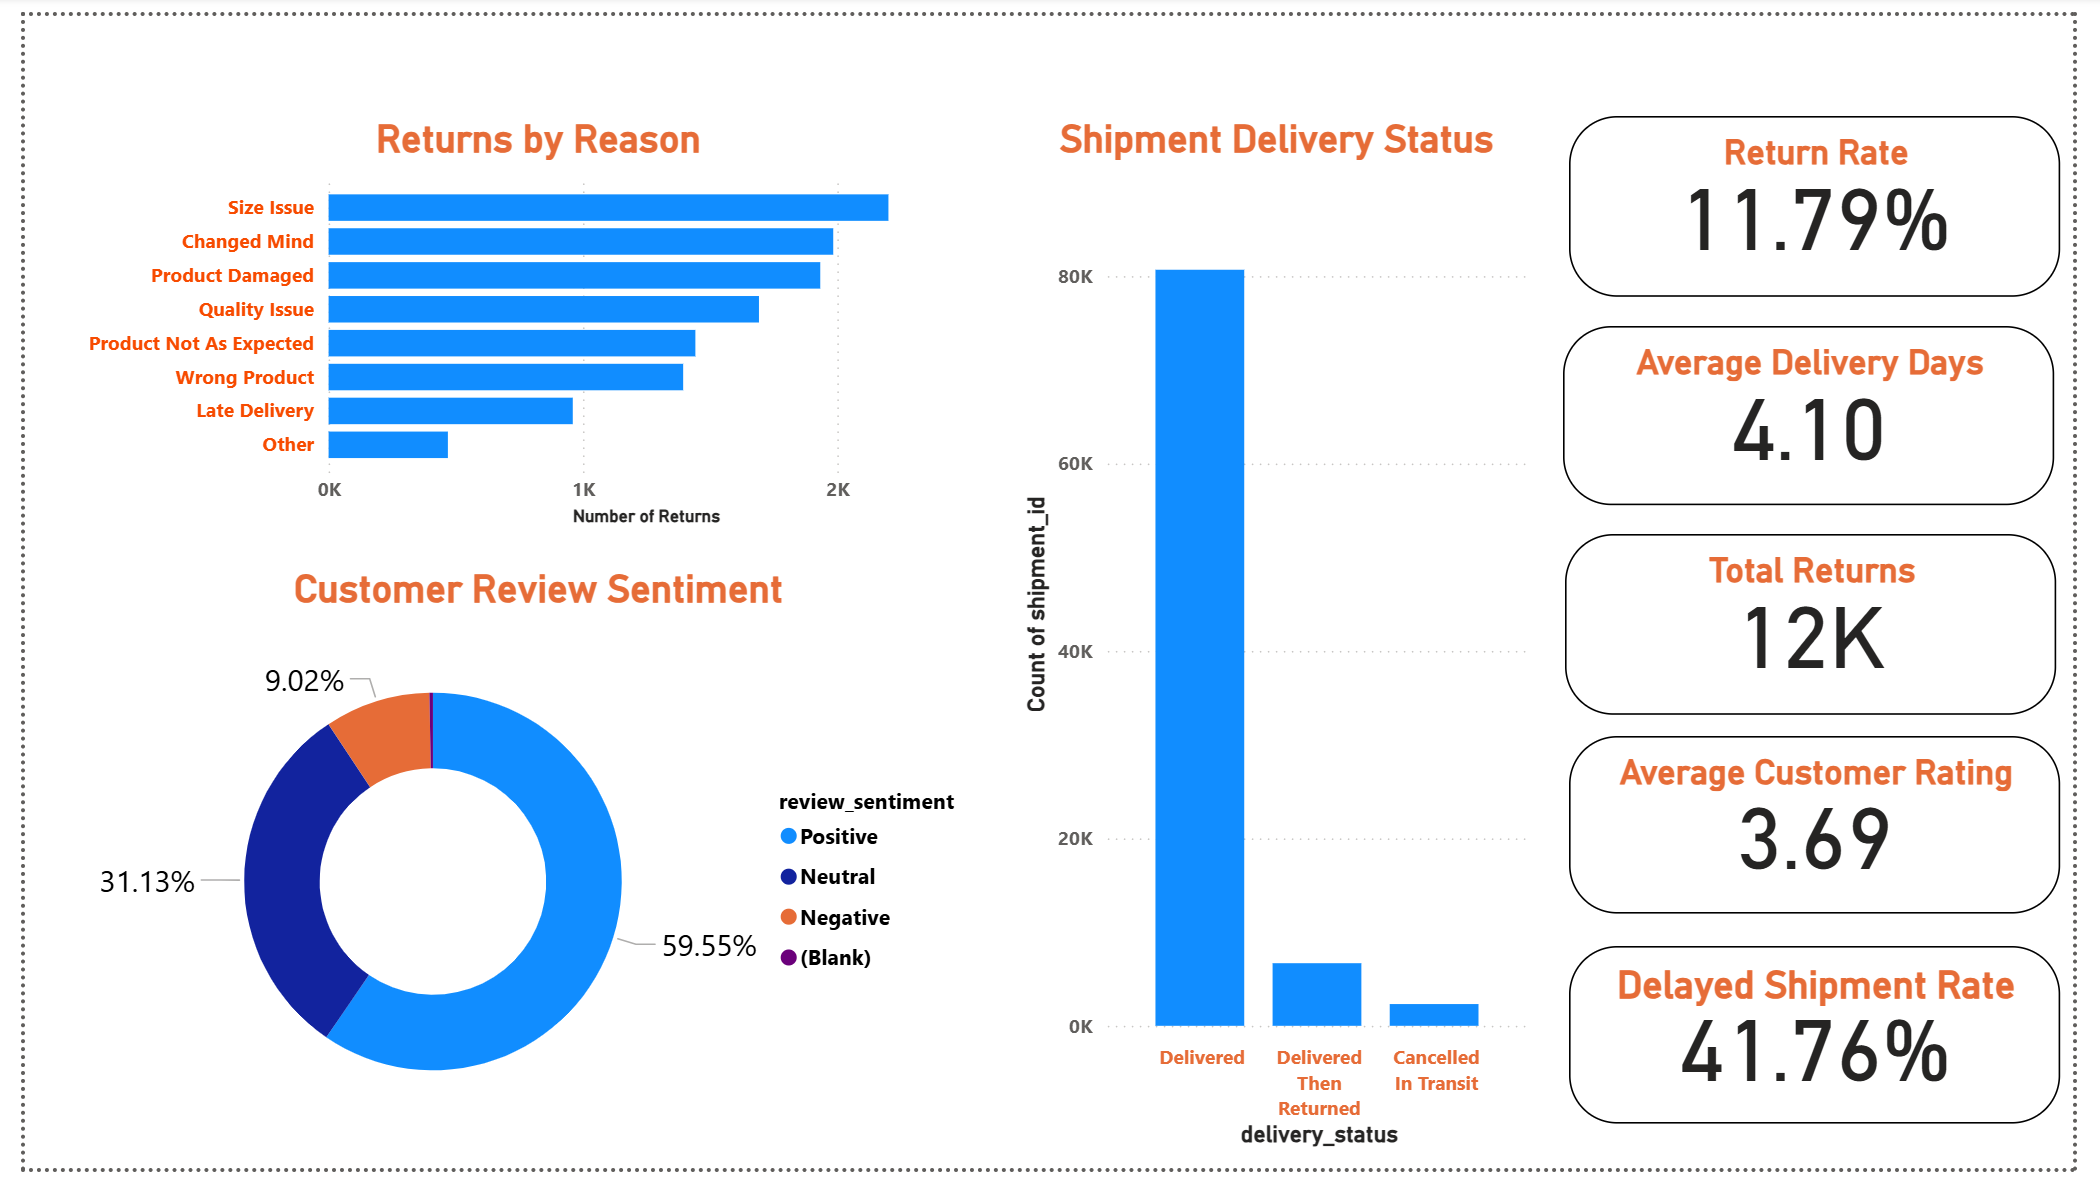

The page's visual inventory and layout, read from the dashboard file:
{"tool":"powerbi","page":{"name":"Customer Experience","canvas":[1280,720],"ordinal":3},"visuals":[{"type":"card","title":"Total Returns","fields":{"Values":["returns.Total Returns"]},"box":[962.9,323.7,307.1,112.9],"z":0},{"type":"card","title":"Return Rate","fields":{"Values":["returns.Return Rate %"]},"box":[964.6,63.1,307.1,112.9],"z":1000},{"type":"card","title":"Average Customer Rating","fields":{"Values":["customer reviews.Average Rating"]},"box":[964.6,449.9,307.1,111.2],"z":2000},{"type":"card","title":"Average Delivery Days","fields":{"Values":["shipments.Average Delivery Days"]},"box":[961.2,194.2,307,112],"z":3000},{"type":"clusteredBarChart","title":"Returns by Reason","fields":{"Category":["returns.return_reason"],"Y":["CountNonNull(returns.return_id)"]},"box":[33.2,63.1,574.4,260.6],"z":4000},{"type":"donutChart","title":"Customer Review Sentiment","fields":{"Category":["customer reviews.review_sentiment"],"Y":["CountNonNull(customer reviews.review_id)"]},"box":[33.2,343.7,574.4,366.9],"z":5000},{"type":"clusteredColumnChart","title":"Shipment Delivery Status","fields":{"Category":["shipments.delivery_status"],"Y":["CountNonNull(shipments.shipment_id)"]},"box":[619.2,63.1,327.1,649.1],"z":6000},{"type":"card","title":"Delayed Shipment Rate","fields":{"Values":["shipments.Delayed Shipment Rate %"]},"box":[964.6,581.1,307.1,111.2],"z":7000}]}

Visuals, with their boxes in screenshot pixels (x1, y1, x2, y2), scaled from the page's 1280x720 canvas onto the 2100x1188 screenshot:
"Total Returns" card: 1580:534:2084:720
"Return Rate" card: 1583:104:2086:290
"Average Customer Rating" card: 1583:742:2086:926
"Average Delivery Days" card: 1577:320:2081:505
"Returns by Reason" clusteredBarChart: 54:104:997:534
"Customer Review Sentiment" donutChart: 54:567:997:1172
"Shipment Delivery Status" clusteredColumnChart: 1016:104:1553:1175
"Delayed Shipment Rate" card: 1583:959:2086:1142
